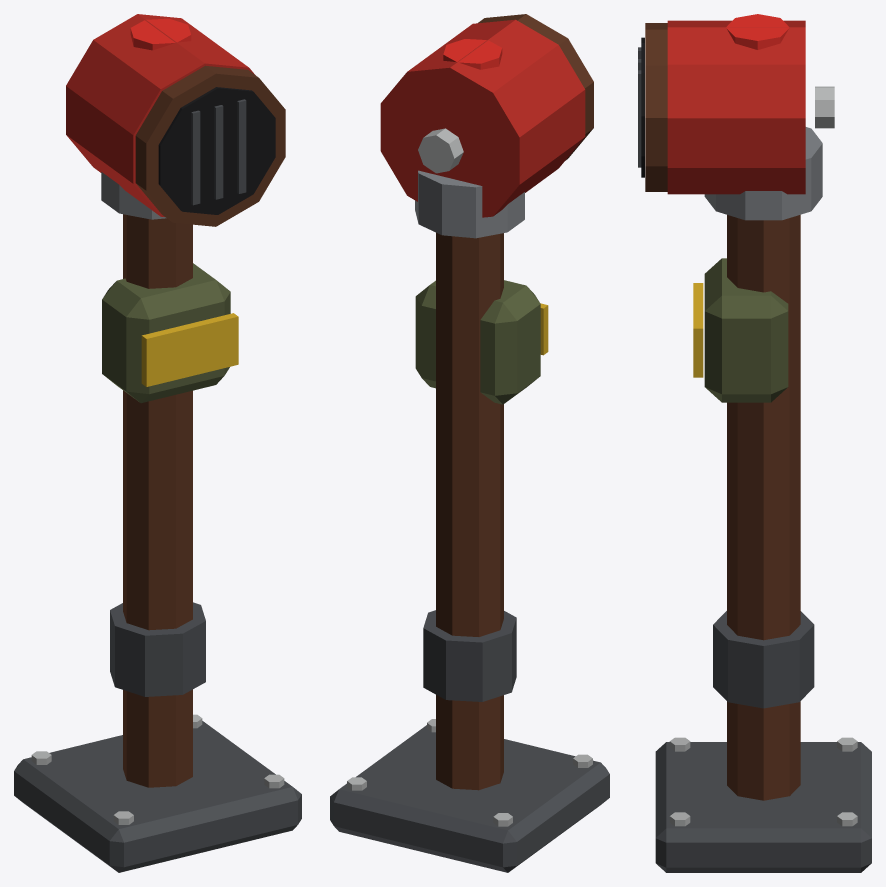
File: piece_alarm.fbx
The picture shows the model from 3 angles, left to right: view 1: azimuth 30°, elevation 25°; view 2: azimuth 150°, elevation 25°; view 3: azimuth 270°, elevation 25°; orthographic projection. The views are drawn at different scales.
Parts seen in each view (by area): view 1: piece_alarm; view 2: piece_alarm; view 3: piece_alarm.
Part boxes in pixels (<box>): piece_alarm: <box>14,14,301,872</box>; piece_alarm: <box>330,14,609,872</box>; piece_alarm: <box>638,14,871,872</box>.
Bounding box in the file's own units: 0.46 × 1.8 × 0.4755.
